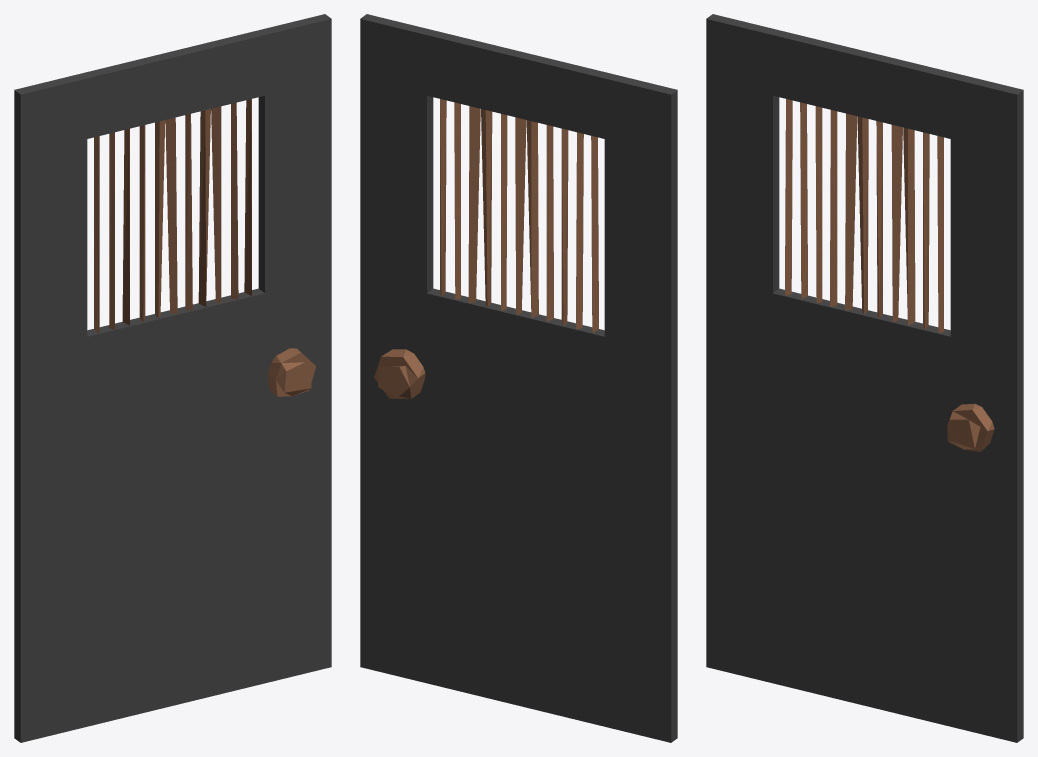
Rendered from door-factory-l.glb.
3 views of the same model, side by side, from view 1: azimuth 30°, elevation 25°; view 2: azimuth 150°, elevation 25°; view 3: azimuth 330°, elevation 25° (orthographic).
Visible parts, largest first — view 1: Cylinder.062; view 2: Cylinder.062; view 3: Cylinder.062.
Boxes of the visible parts, bbox=[...] form: Cylinder.062: bbox=[14, 14, 331, 742]; Cylinder.062: bbox=[360, 14, 677, 742]; Cylinder.062: bbox=[706, 14, 1023, 742].
Bounding box in the file's own units: 1.13 × 2.25 × 0.1915.
Materials: 2 (1 with a texture image).
